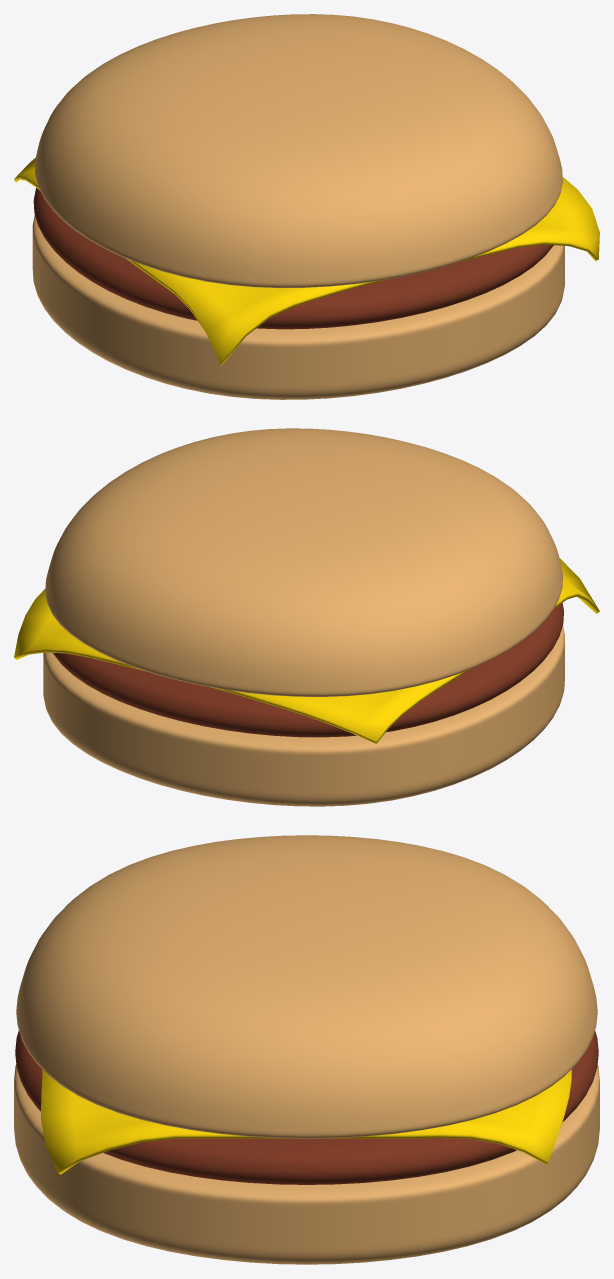
Rendered from hamburger.glb.
3 views of the same model, one above another, from view 1: azimuth 30°, elevation 25°; view 2: azimuth 150°, elevation 25°; view 3: azimuth 270°, elevation 25° (orthographic). The views are drawn at different scales.
Parts seen in each view (by area): view 1: Cube.002, Cube, Cube.001, Plane; view 2: Cube.002, Cube, Cube.001, Plane; view 3: Cube.002, Cube, Cube.001, Plane.
Part boxes in pixels (<box>): Cube.002: <box>34,14,562,287</box>; Cube: <box>32,215,564,399</box>; Cube.001: <box>33,188,553,329</box>; Plane: <box>14,157,599,365</box>; Cube.002: <box>45,428,562,696</box>; Cube: <box>43,626,564,806</box>; Cube.001: <box>53,603,563,737</box>; Plane: <box>14,558,599,743</box>; Cube.002: <box>16,835,597,1138</box>; Cube: <box>14,1064,599,1264</box>; Cube.001: <box>15,1030,598,1184</box>; Plane: <box>40,1069,571,1174</box>.
Bounding box in the file's own units: 9.25 × 4.56 × 9.25.
